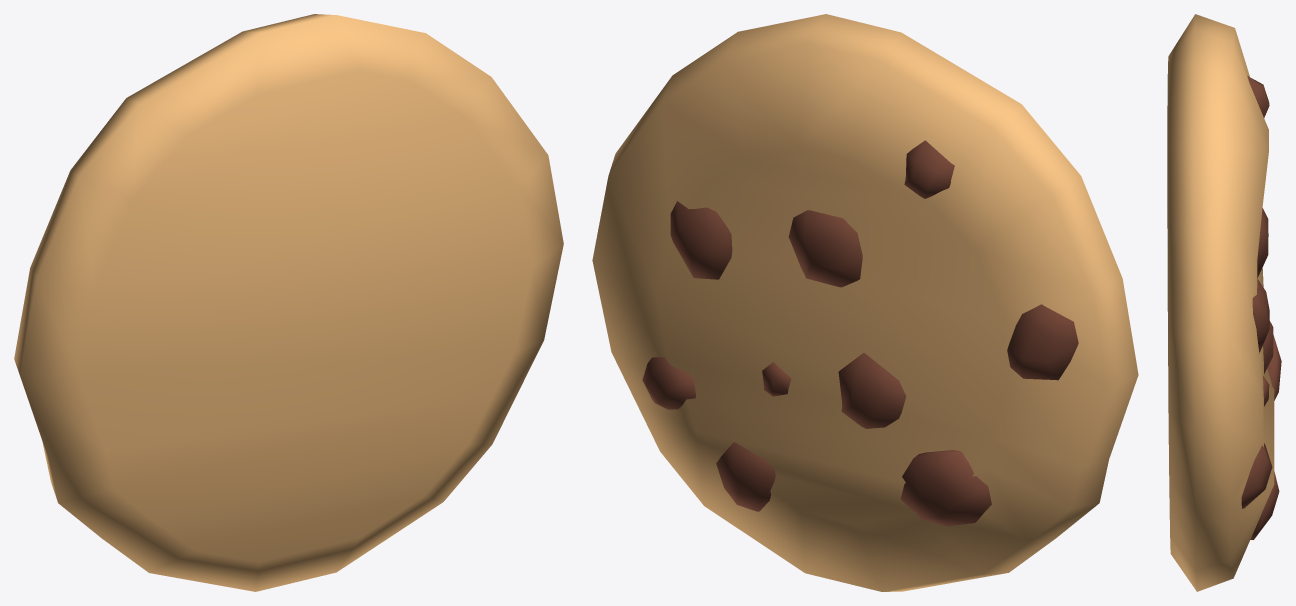
File: CookieEdited.fbx
The picture shows the model from 3 angles, left to right: view 1: azimuth 30°, elevation 25°; view 2: azimuth 150°, elevation 25°; view 3: azimuth 270°, elevation 25°; orthographic projection. The views are drawn at different scales.
Visible parts, largest first — view 1: Cube; view 2: Cube; view 3: Cube.
Boxes of the visible parts, box(x1,y1,x2,y2) form: Cube: box(14, 14, 563, 591); Cube: box(592, 14, 1138, 591); Cube: box(1167, 14, 1281, 591).
Size of the model in its own units: 6287 by 6191 by 1232.
